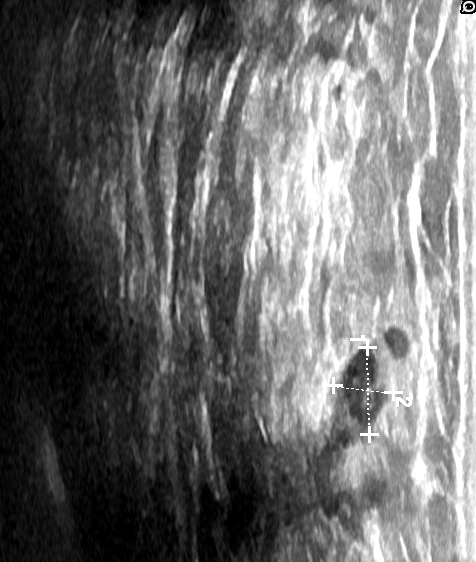Benign: (333, 344, 390, 426)
